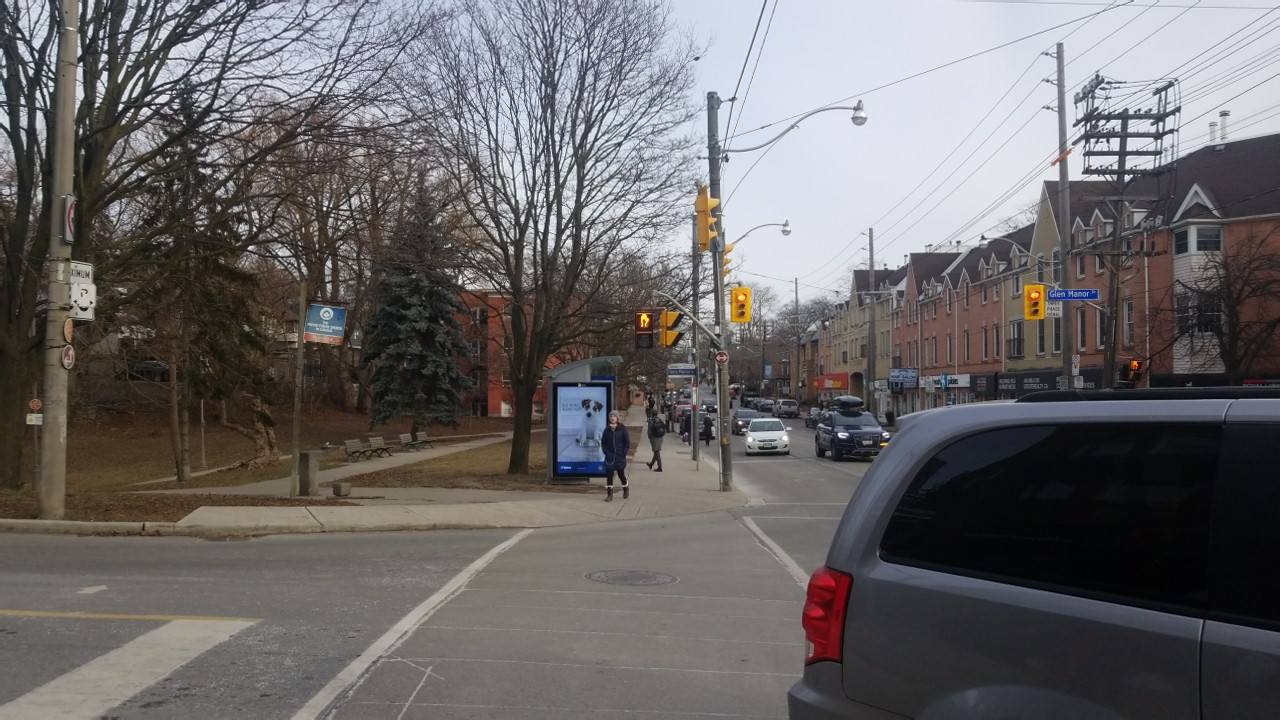light: (631, 309, 655, 351)
